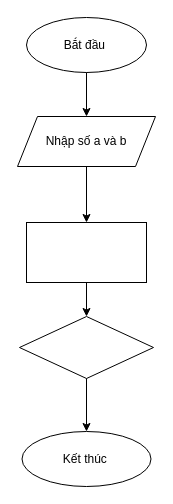
Image size: 173x504. Some labels were removed from this diagram. Here are the shapes that lost their labels. From the top down, the centre of each, then its label:
At (86,252): "Tính tổng = a + b".
At (86,347): "In tổng".
